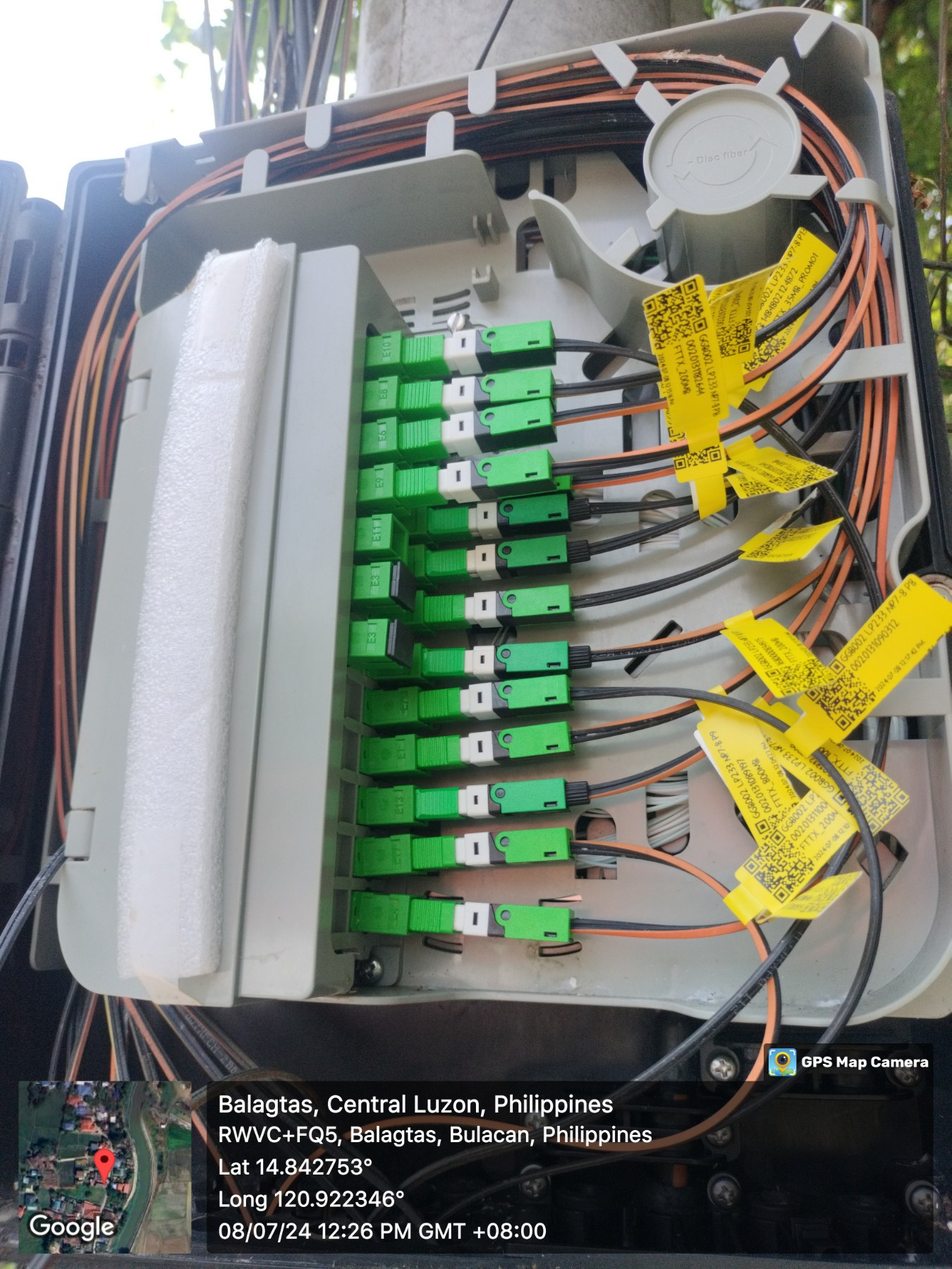no dust cap: (389, 516, 412, 563)
no port: (336, 672, 362, 722), (335, 724, 358, 773), (333, 777, 356, 824), (329, 890, 349, 933), (333, 833, 353, 876)
occupied: (416, 452, 594, 509), (399, 395, 572, 450), (394, 447, 569, 500), (419, 670, 593, 722), (425, 527, 593, 580), (429, 492, 590, 542), (416, 722, 585, 769), (411, 899, 585, 944), (410, 826, 588, 868), (425, 583, 593, 627), (416, 776, 594, 817), (401, 319, 567, 362), (423, 644, 597, 679), (399, 368, 555, 406)
vacant: (393, 563, 420, 614), (388, 621, 416, 668)
